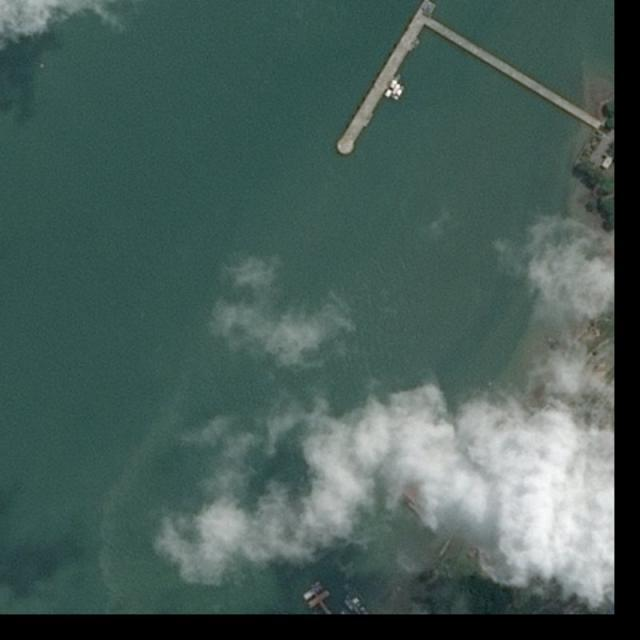ship: (392, 82, 401, 96), (396, 85, 405, 98), (384, 88, 393, 100), (389, 78, 396, 88)
